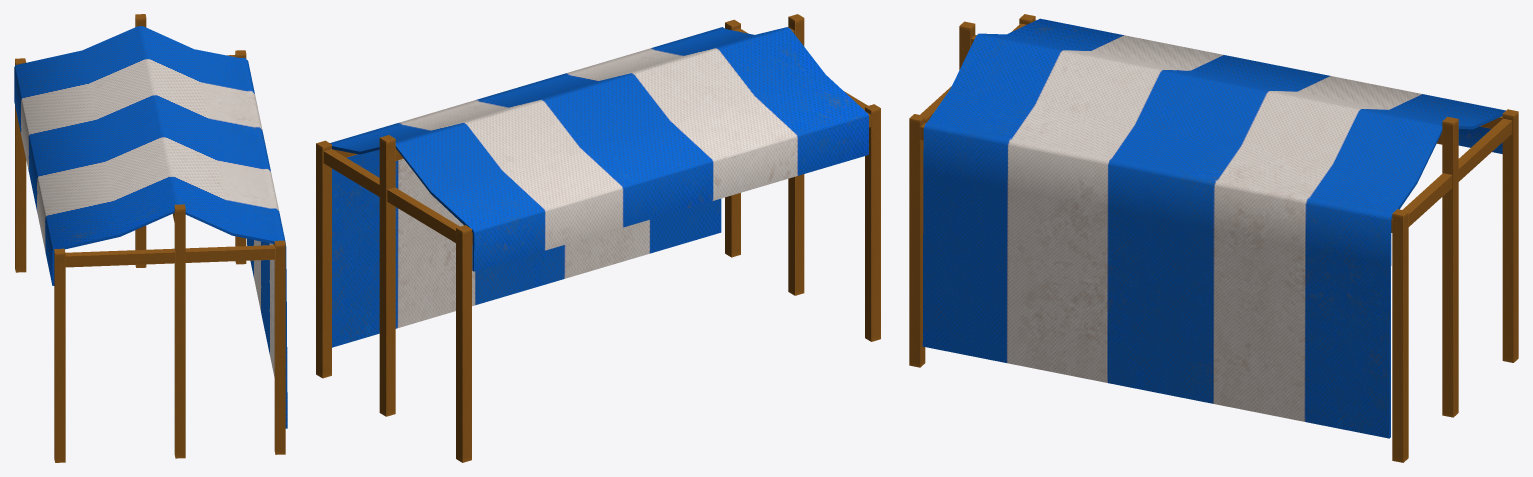
File: stand3.glb
The picture shows the model from 3 angles, left to right: view 1: azimuth 30°, elevation 25°; view 2: azimuth 150°, elevation 25°; view 3: azimuth 270°, elevation 25°; orthographic projection. The views are drawn at different scales.
Visible parts, largest first — view 1: Stand_Vegetables_IronWood_0.001; view 2: Stand_Vegetables_IronWood_0.001; view 3: Stand_Vegetables_IronWood_0.001.
Part boxes in pixels (box(x1,y1,x2,y2)): Stand_Vegetables_IronWood_0.001: box(14, 14, 287, 462); Stand_Vegetables_IronWood_0.001: box(316, 14, 880, 462); Stand_Vegetables_IronWood_0.001: box(909, 14, 1518, 462).
Size of the model in its own units: 5.51 by 3.74 by 7.03.
2 materials, 2 textured.
